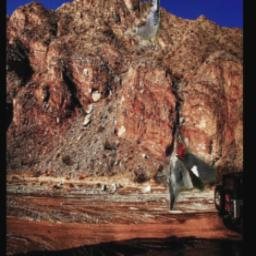Sparrow: (125, 0, 160, 51)
Woodpecker: (157, 133, 216, 211)
